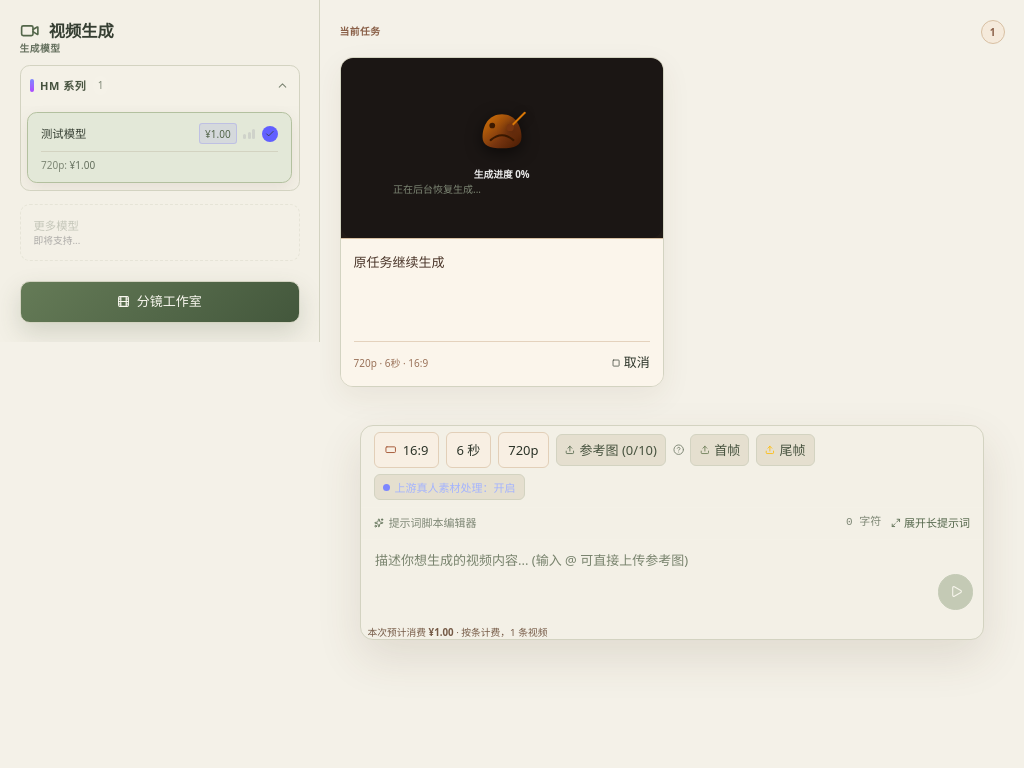
Test: retains the record when an old cancel button loses the race to submission
The image size is (1024, 768).
Click the button "取消".
click(631, 363)  # box [612, 352, 650, 373]
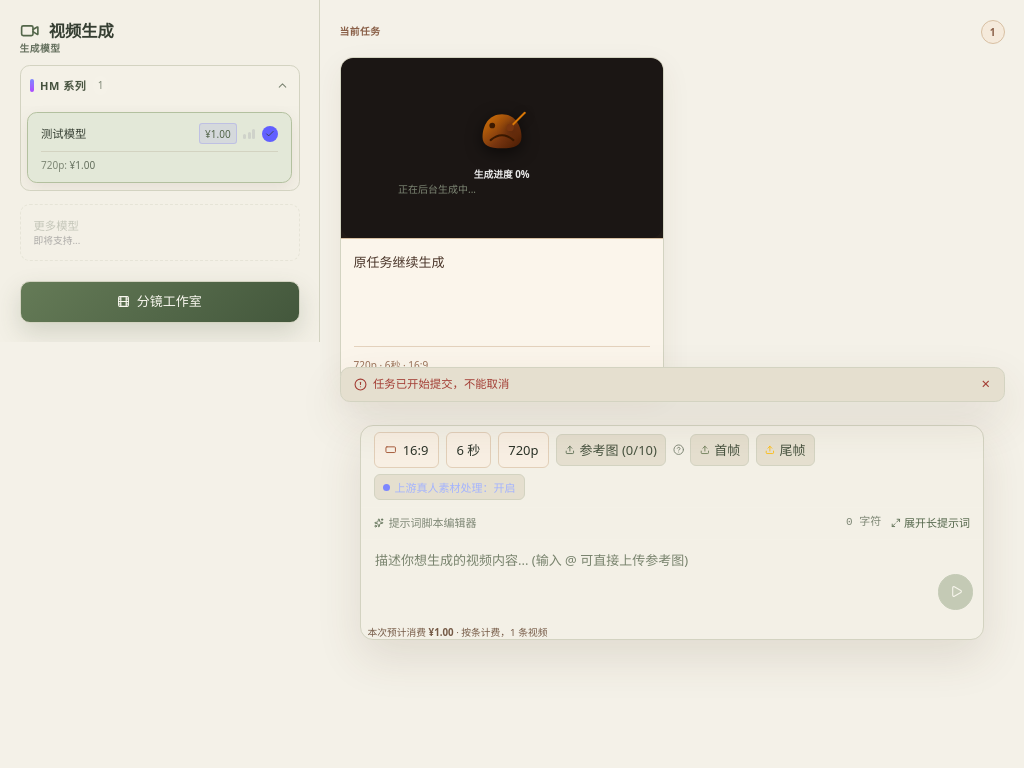
expect the text "原任务继续生成" is shown: met, box [354, 253, 444, 271]
expect the text "任务已开始提交，不能取消" is shown: met, box [373, 376, 509, 391]
